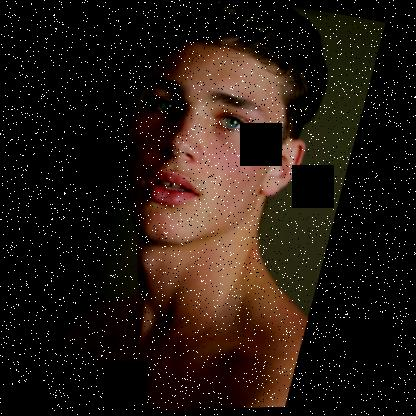Male: (101, 22, 330, 267)
